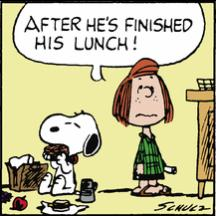snoopy: (38, 109, 102, 196)
